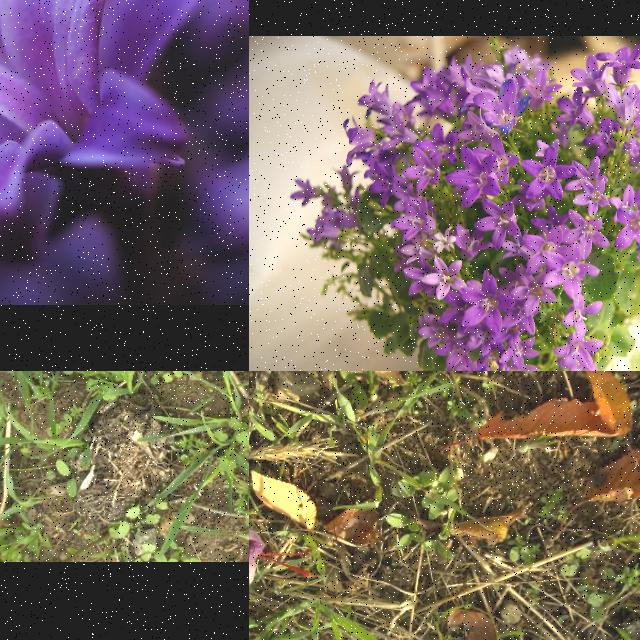flower: (249, 522, 312, 606)
